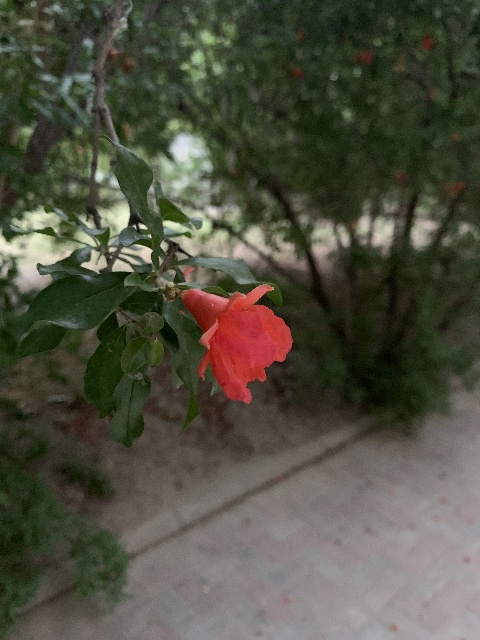flower: (180, 284, 293, 403)
